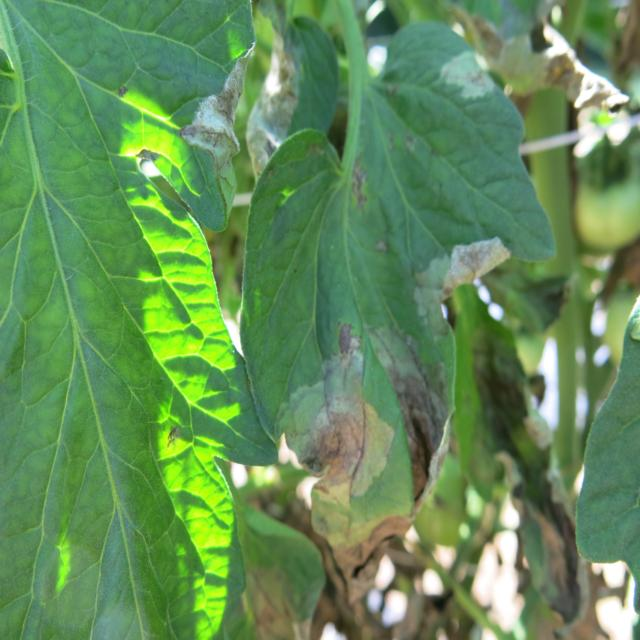Late_blight: (269, 321, 397, 505), (375, 325, 455, 516), (304, 503, 419, 603), (176, 41, 253, 184), (417, 233, 514, 324), (247, 28, 300, 186), (236, 571, 312, 640)
